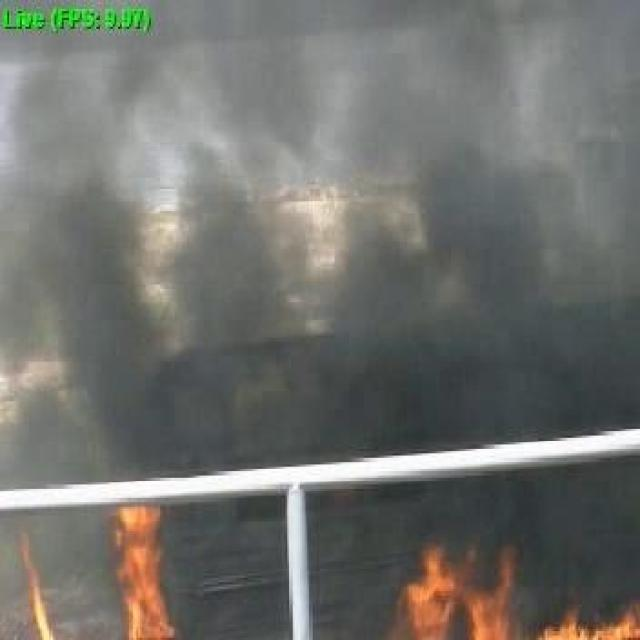fire: (5, 490, 182, 636), (390, 530, 636, 634)
smoke: (21, 124, 635, 520)
